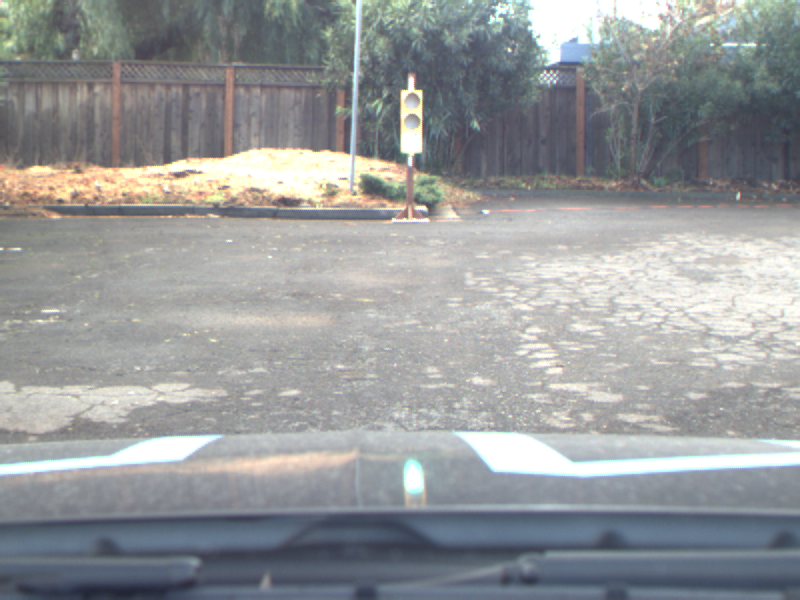Green: (400, 90, 422, 154)
